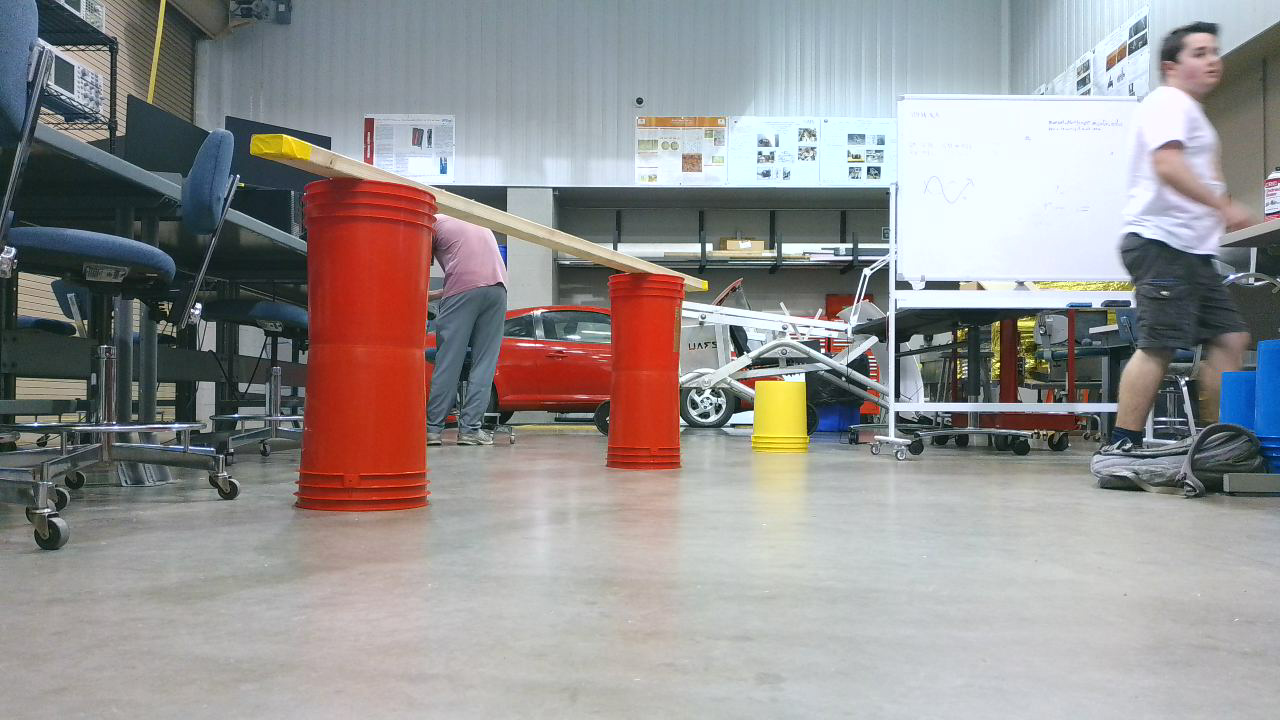red_bucket_arch: (252, 133, 694, 521)
yellow_bucket: (751, 381, 821, 463)
